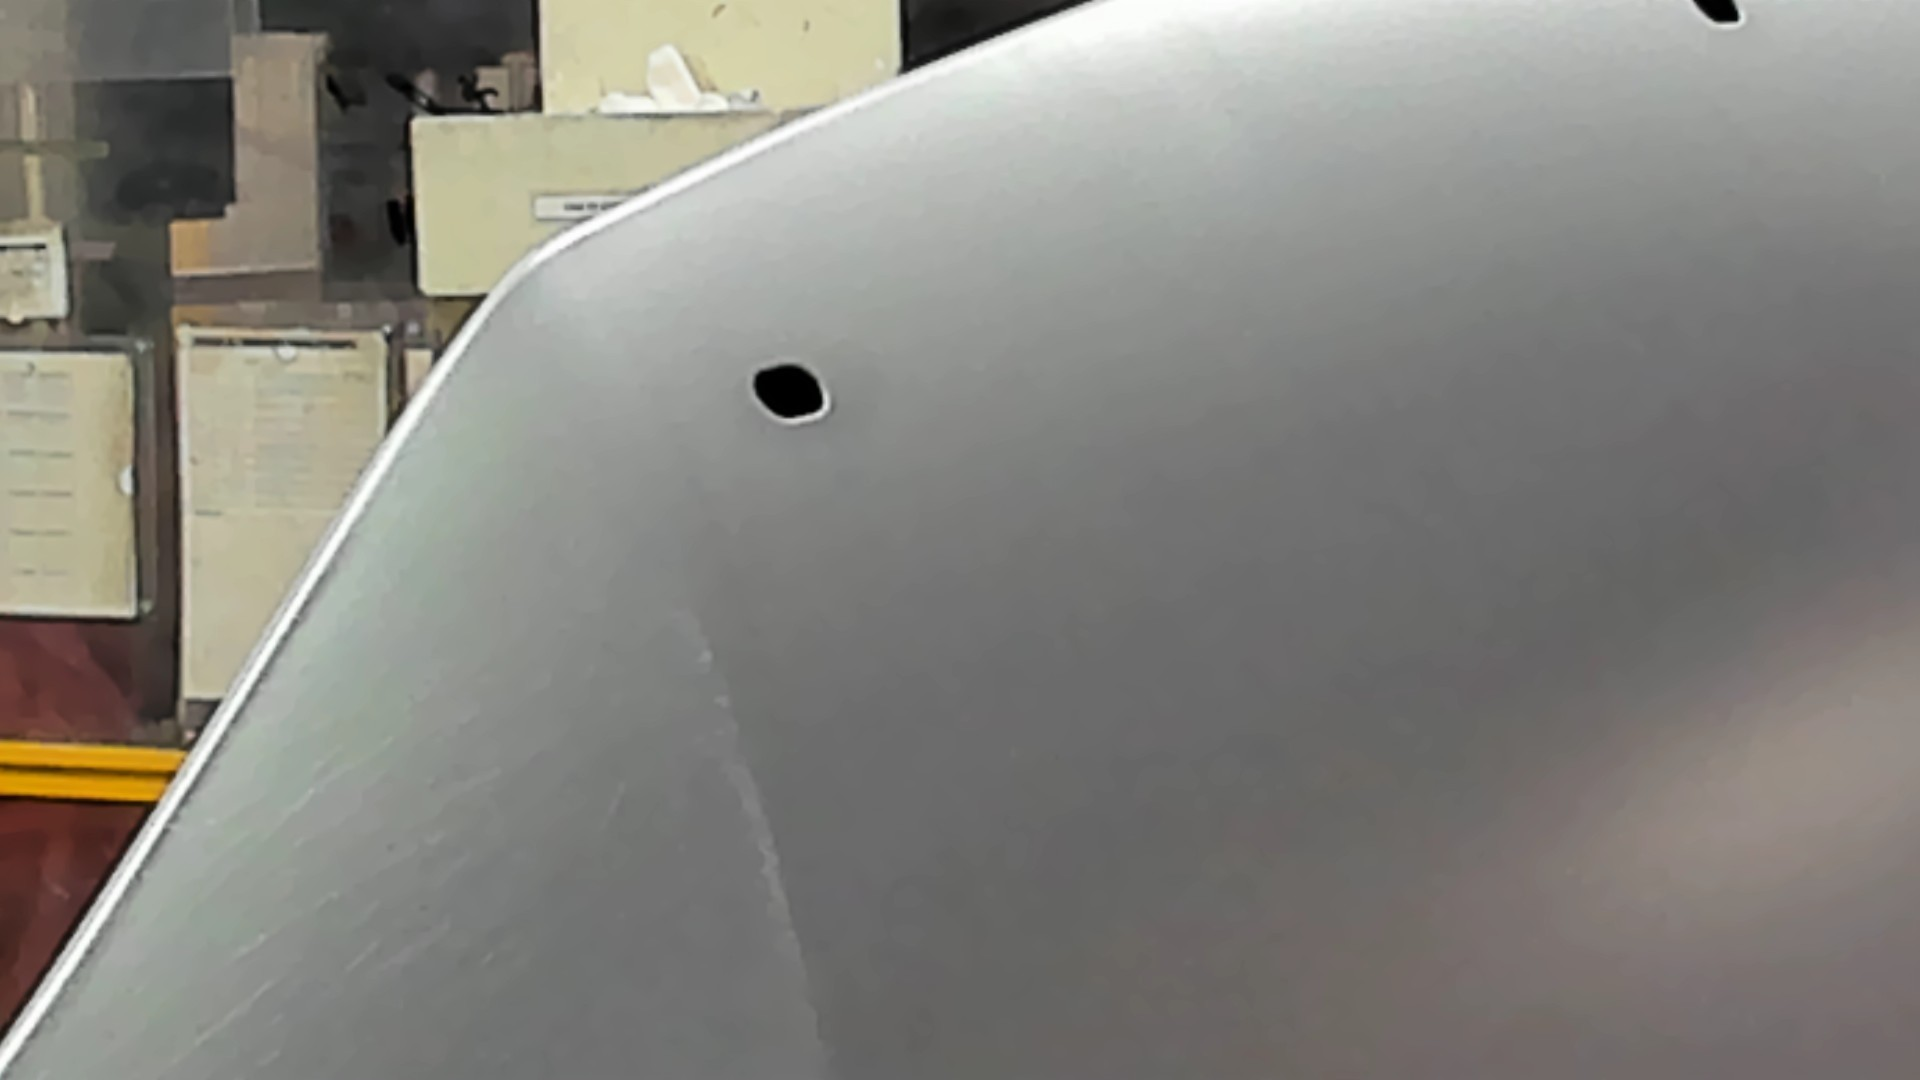amorfo: (731, 351, 855, 436), (1684, 1, 1754, 42)
